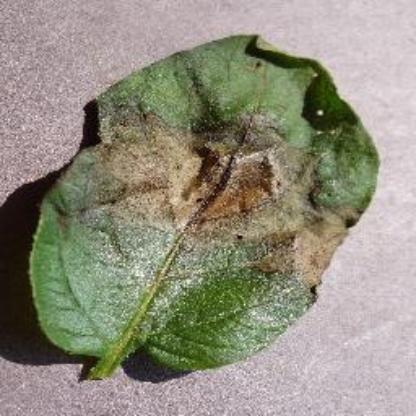Late-Blight: (26, 26, 382, 386)
